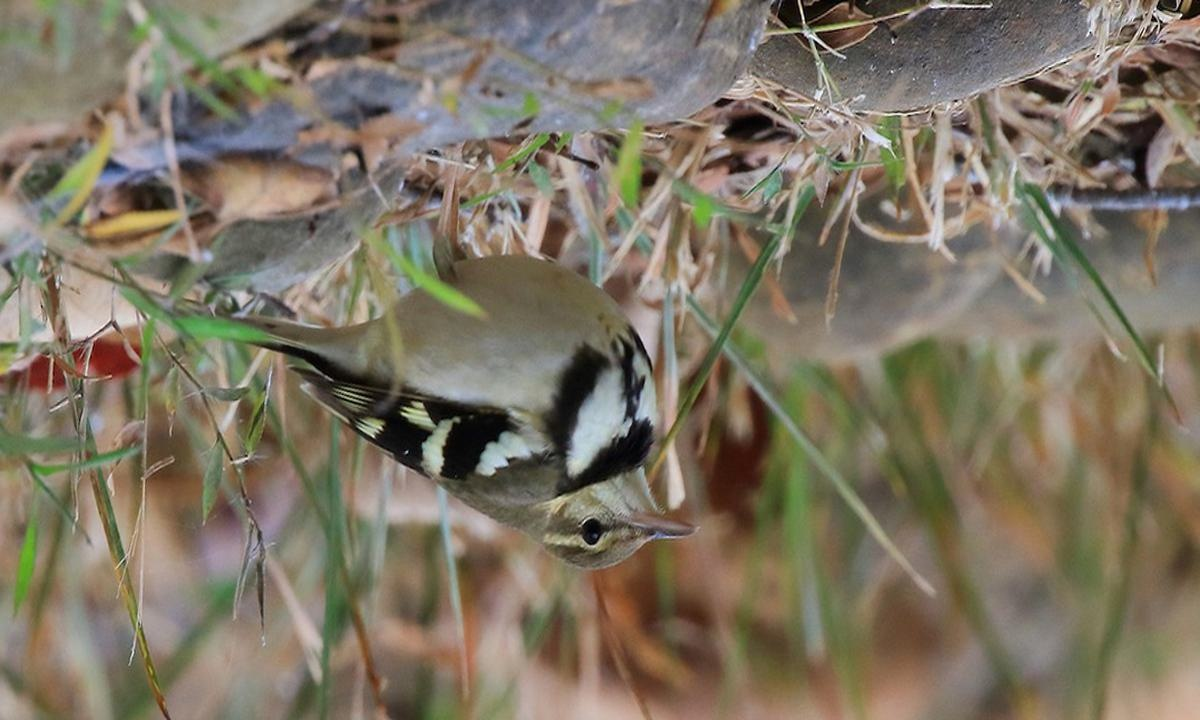wagtail: (164, 236, 674, 584)
